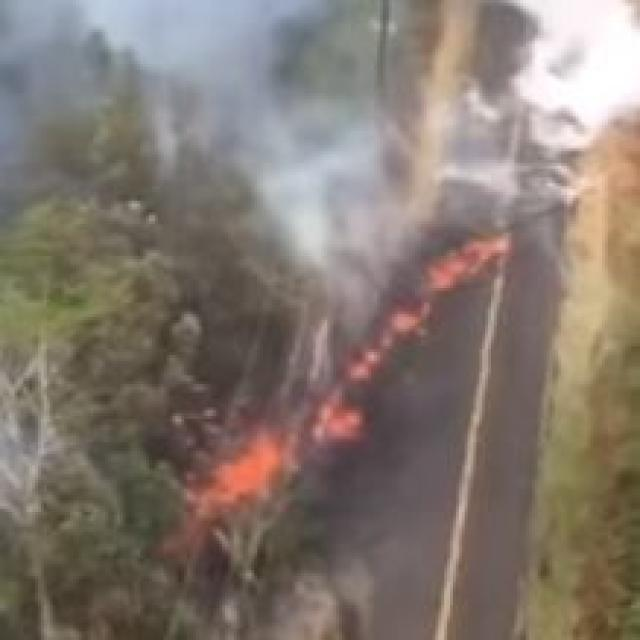Smoke: (74, 0, 389, 294)
